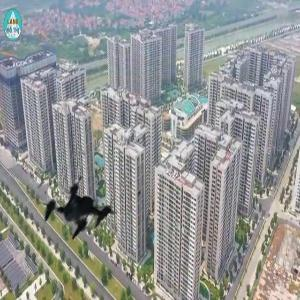drone: (32, 150, 136, 254)
